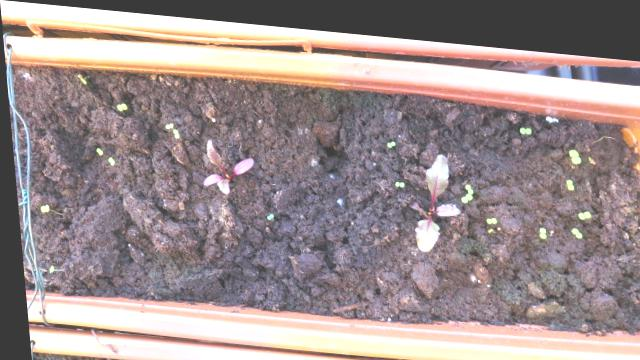crop: (190, 128, 256, 193)
weed: (564, 135, 581, 153), (570, 196, 589, 208), (559, 165, 574, 180), (165, 122, 179, 136), (565, 214, 579, 227), (32, 200, 47, 212), (514, 114, 532, 124), (531, 214, 543, 229), (158, 115, 174, 126), (111, 98, 126, 109), (478, 205, 494, 214), (101, 153, 113, 164), (381, 130, 394, 140), (387, 172, 403, 180), (90, 143, 101, 153)
